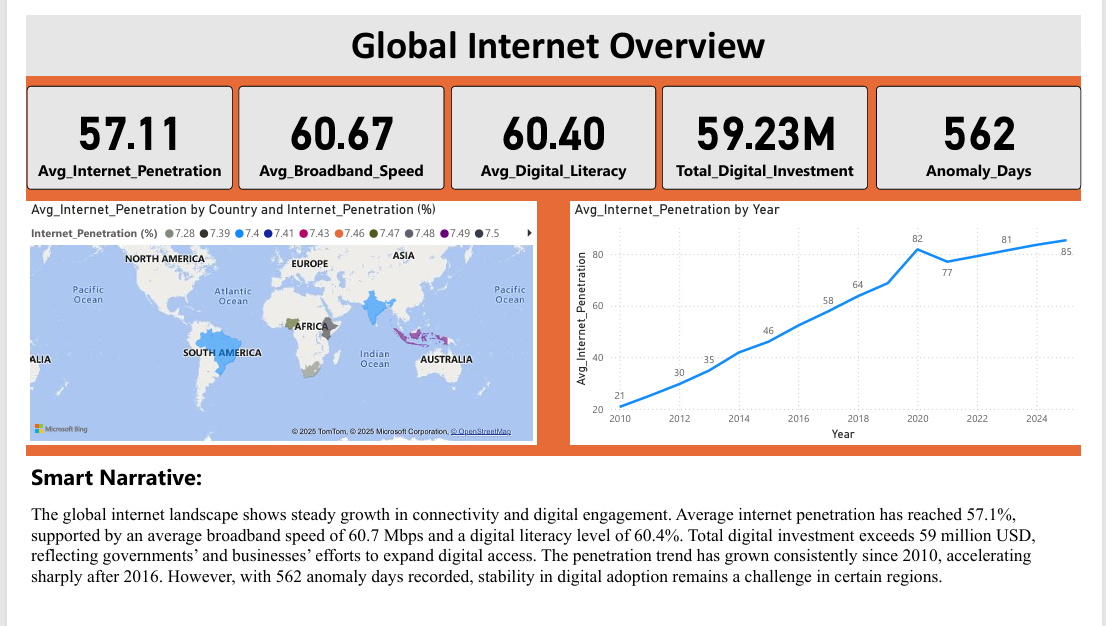

This screenshot's page, from the dashboard's own definition file:
{"tool":"powerbi","page":{"name":"Page 1","canvas":[1280,720],"ordinal":0},"visuals":[{"type":"card","fields":{"Values":["All Measures.Avg_Internet_Penetration"]},"box":[0,85.1,249.7,126.2],"z":0},{"type":"card","fields":{"Values":["All Measures.Avg_Digital_Literacy"]},"box":[514.6,85.1,249.7,126.2],"z":1000},{"type":"card","fields":{"Values":["All Measures.Anomaly_Days"]},"box":[1030.5,85.1,249.7,126.2],"z":2000},{"type":"card","fields":{"Values":["All Measures.Avg_Broadband_Speed"]},"box":[256.6,85.1,250,126.2],"z":3000},{"type":"card","fields":{"Values":["All Measures.Total_Digital_Investment"]},"box":[771.2,85.1,249.7,126.2],"z":4000},{"type":"filledMap","fields":{"Category":["global_internet_adoption_daily_2010_2025_with_clusters.Country"],"Series":["global_internet_adoption_daily_2010_2025_with_clusters.Internet_Penetration (%)"]},"box":[0,224.5,620,296.9],"z":5000},{"type":"lineChart","fields":{"Category":["global_internet_adoption_daily_2010_2025_with_clusters.Date.Variation.Date Hierarchy.Year","global_internet_adoption_daily_2010_2025_with_clusters.Date.Variation.Date Hierarchy.Quarter","global_internet_adoption_daily_2010_2025_with_clusters.Date.Variation.Date Hierarchy.Month","global_internet_adoption_daily_2010_2025_with_clusters.Date.Variation.Date Hierarchy.Day"],"Y":["All Measures.Avg_Internet_Penetration"]},"box":[660.1,224.5,619.6,296.9],"z":6000},{"type":"textbox","box":[0,0,1280.3,72.7],"z":7000},{"type":"textbox","box":[0,535,1279.8,185.3],"z":7001}]}

Visuals, with their boxes in screenshot pixels (x1, y1, x2, y2), scaled from the page's 1280x720 canvas onto the 1106x626 screenshot:
card - All Measures.Avg_Internet_Penetration: l=0, t=74, r=216, b=184
card - All Measures.Avg_Digital_Literacy: l=445, t=74, r=660, b=184
card - All Measures.Anomaly_Days: l=890, t=74, r=1105, b=184
card - All Measures.Avg_Broadband_Speed: l=222, t=74, r=438, b=184
card - All Measures.Total_Digital_Investment: l=666, t=74, r=882, b=184
filledMap - global_internet_adoption_daily_2010_2025_with_clusters.Country x global_internet_adoption_daily_2010_2025_with_clusters.Internet_Penetration (%): l=0, t=195, r=536, b=453
lineChart - global_internet_adoption_daily_2010_2025_with_clusters.Date.Variation.Date Hierarchy.Year x global_internet_adoption_daily_2010_2025_with_clusters.Date.Variation.Date Hierarchy.Quarter: l=570, t=195, r=1105, b=453
textbox: l=0, t=0, r=1105, b=63
textbox: l=0, t=465, r=1105, b=625
